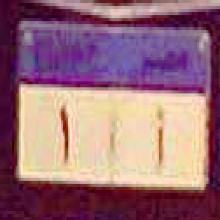1: (56, 100, 74, 170)
alif: (152, 104, 167, 171)
